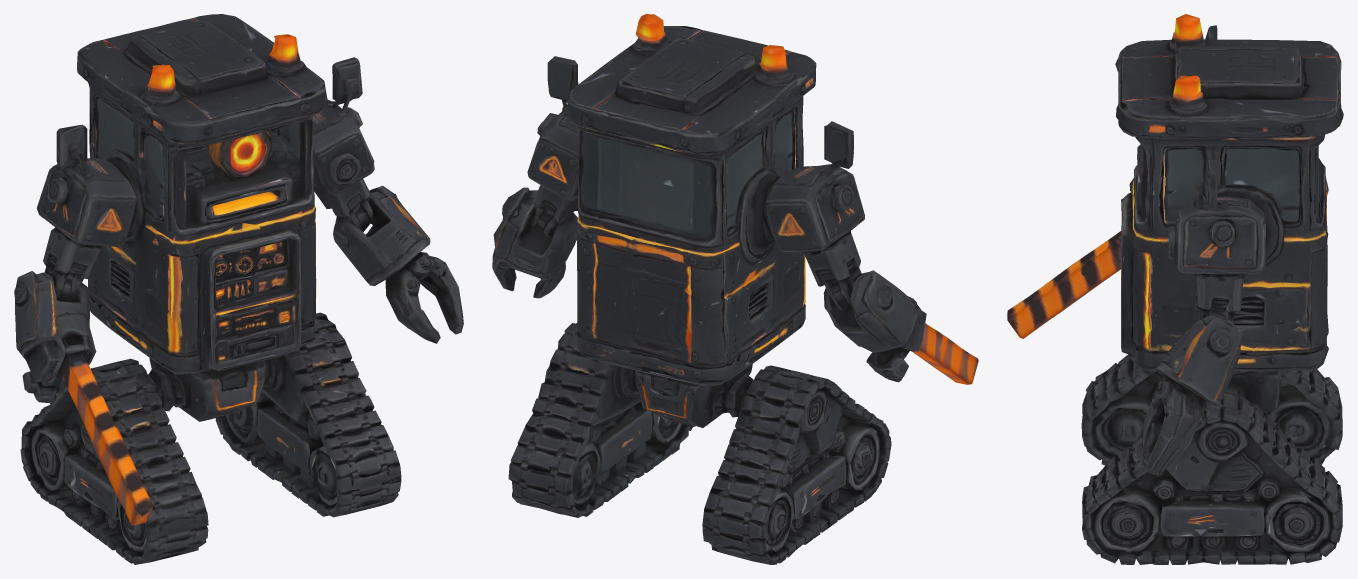
File: boss-10-t-hd.glb
The picture shows the model from 3 angles, left to right: view 1: azimuth 30°, elevation 25°; view 2: azimuth 150°, elevation 25°; view 3: azimuth 270°, elevation 25°; orthographic projection.
Parts seen in each view (by area): view 1: body, trackR, trackL, forearmR, shoulderR, forearmL, shoulderL; view 2: body, trackR, trackL, shoulderR, forearmR, shoulderL, forearmL; view 3: body, trackL, trackR, shoulderL, forearmL, forearmR.
Boxes of the visible parts, x1,y1,x2,y2 form: body: [56, 14, 327, 421]; trackR: [20, 358, 208, 564]; trackL: [215, 312, 401, 517]; forearmR: [14, 271, 153, 525]; shoulderR: [36, 143, 136, 301]; forearmL: [333, 185, 463, 343]; shoulderL: [312, 57, 376, 231]; body: [566, 14, 853, 427]; trackR: [702, 365, 891, 564]; trackL: [508, 323, 692, 517]; shoulderR: [762, 163, 864, 310]; forearmR: [823, 270, 978, 384]; shoulderL: [527, 56, 578, 236]; forearmL: [492, 187, 577, 298]; body: [1115, 14, 1343, 413]; trackL: [1082, 386, 1342, 564]; trackR: [1081, 354, 1342, 465]; shoulderL: [1168, 160, 1266, 322]; forearmL: [1143, 313, 1242, 474]; forearmR: [1007, 231, 1121, 338].
Size of the model in its own units: 0.9722 by 0.993 by 0.6635.
Materials: 1 (1 with a texture image).
